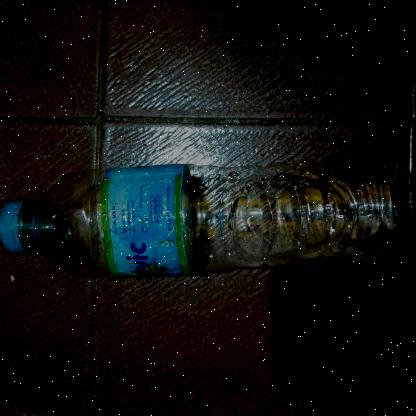Plastic Bottle: (0, 160, 416, 280)
